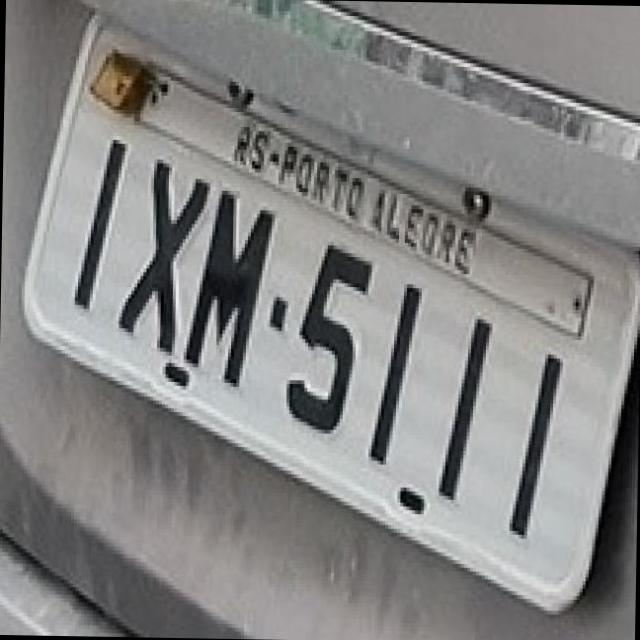1: (420, 296, 501, 504), (492, 334, 572, 535), (354, 264, 434, 462), (51, 116, 134, 305)
5: (268, 225, 384, 438)
M: (170, 174, 284, 391)
X: (103, 135, 217, 352)
